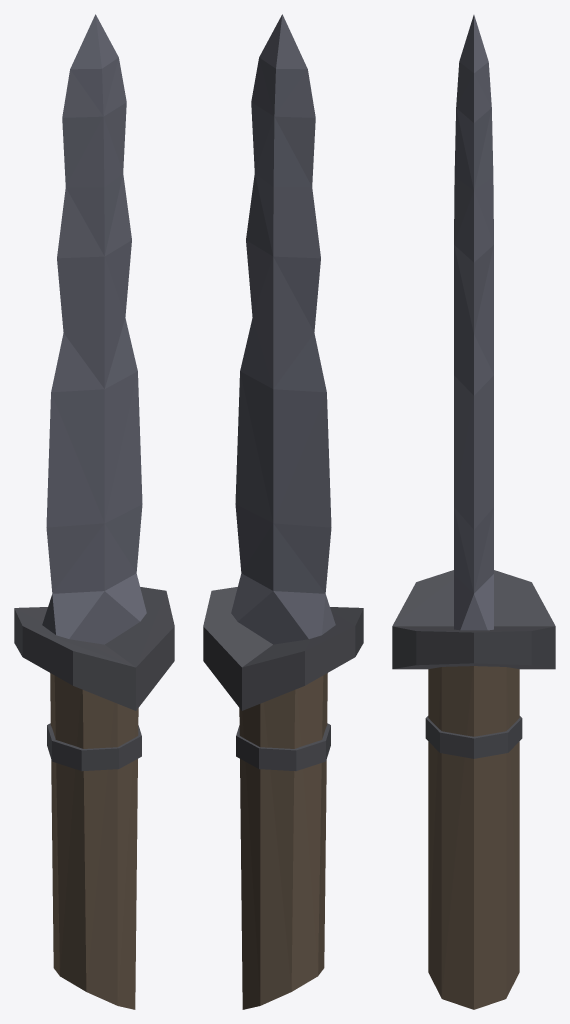
File: dagger_dagger_2.glb
The picture shows the model from 3 angles, left to right: view 1: azimuth 30°, elevation 25°; view 2: azimuth 150°, elevation 25°; view 3: azimuth 270°, elevation 25°; orthographic projection.
Parts seen in each view (by area): view 1: dagger_2; view 2: dagger_2; view 3: dagger_2.
Part boxes in pixels (left/top/right/bottom): dagger_2: left=14, top=14, right=174, bottom=1009; dagger_2: left=203, top=14, right=363, bottom=1009; dagger_2: left=392, top=15, right=555, bottom=1009.
Bounding box in the file's own units: 6.64 × 43.92 × 6.64.
1 material, 1 textured.
